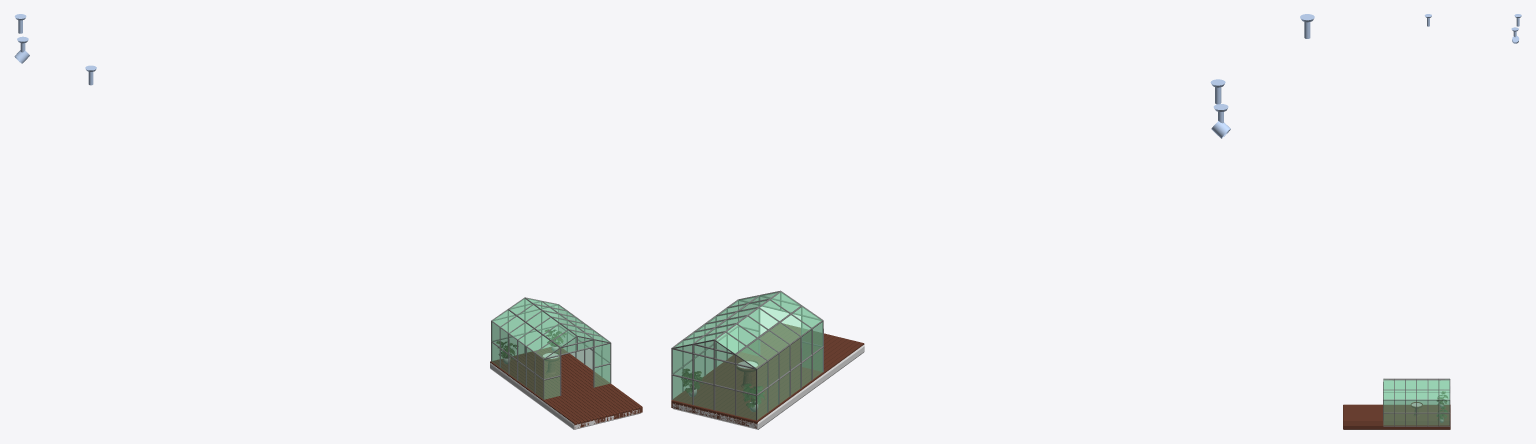
Rendered from floraOBJcomprimido2og.glb.
3 views of the same model, side by side, from view 1: azimuth 30°, elevation 25°; view 2: azimuth 150°, elevation 25°; view 3: azimuth 270°, elevation 25° (orthographic). The views are drawn at different scales.
Parts seen in each view (by area): view 1: Greenhouse, Plano.002, Plano; view 2: Greenhouse, Plano.002, Plano; view 3: Greenhouse, Plano.002.
Part boxes in pixels (bbox=[...]): Greenhouse: bbox=[491, 297, 611, 399]; Plano.002: bbox=[490, 347, 642, 427]; Plano: bbox=[490, 363, 640, 429]; Greenhouse: bbox=[671, 290, 823, 420]; Plano.002: bbox=[671, 323, 864, 428]; Plano: bbox=[672, 345, 864, 429]; Greenhouse: bbox=[1383, 378, 1450, 426]; Plano.002: bbox=[1343, 404, 1450, 429].
Size of the model in its own units: 47.74 by 38.47 by 23.58.
